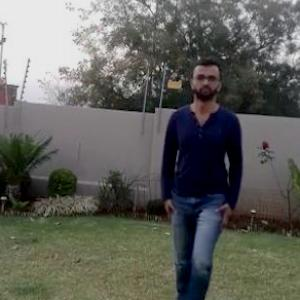follow: (160, 67, 238, 299)
